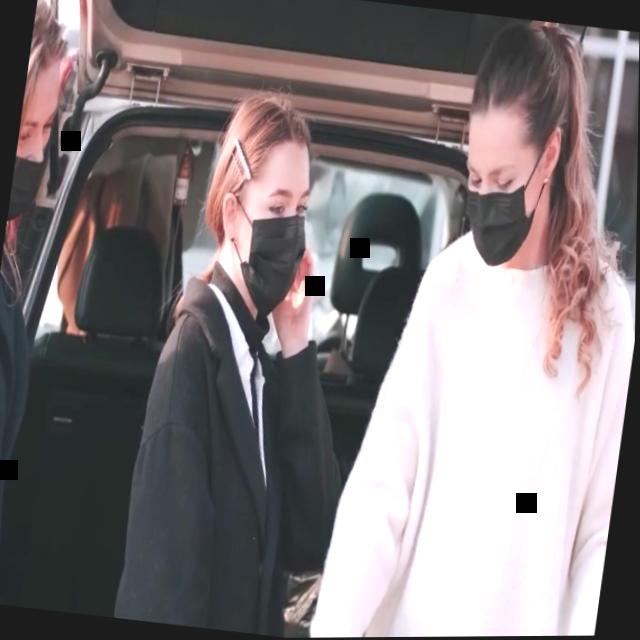Mask: (452, 112, 551, 272), (222, 155, 316, 319), (8, 64, 64, 222)
